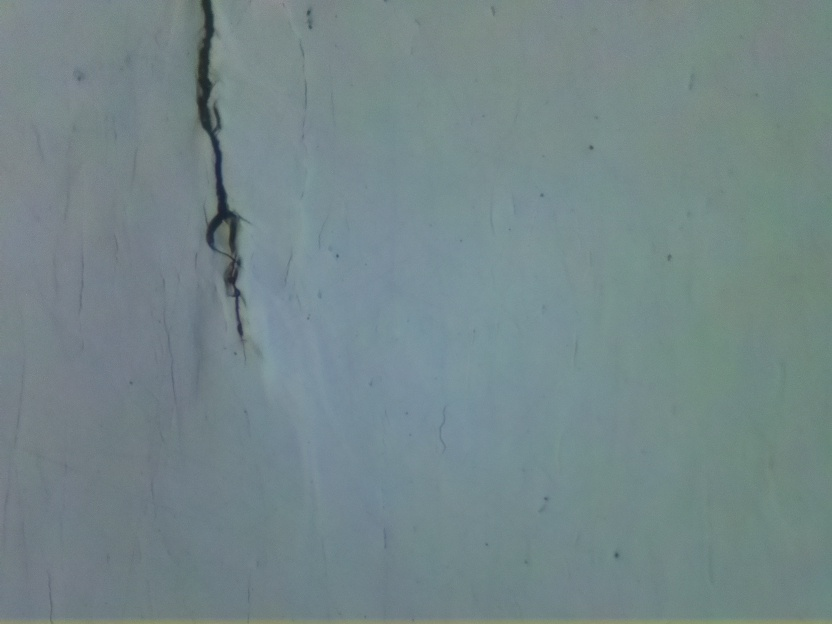crack: (196, 0, 244, 336)
